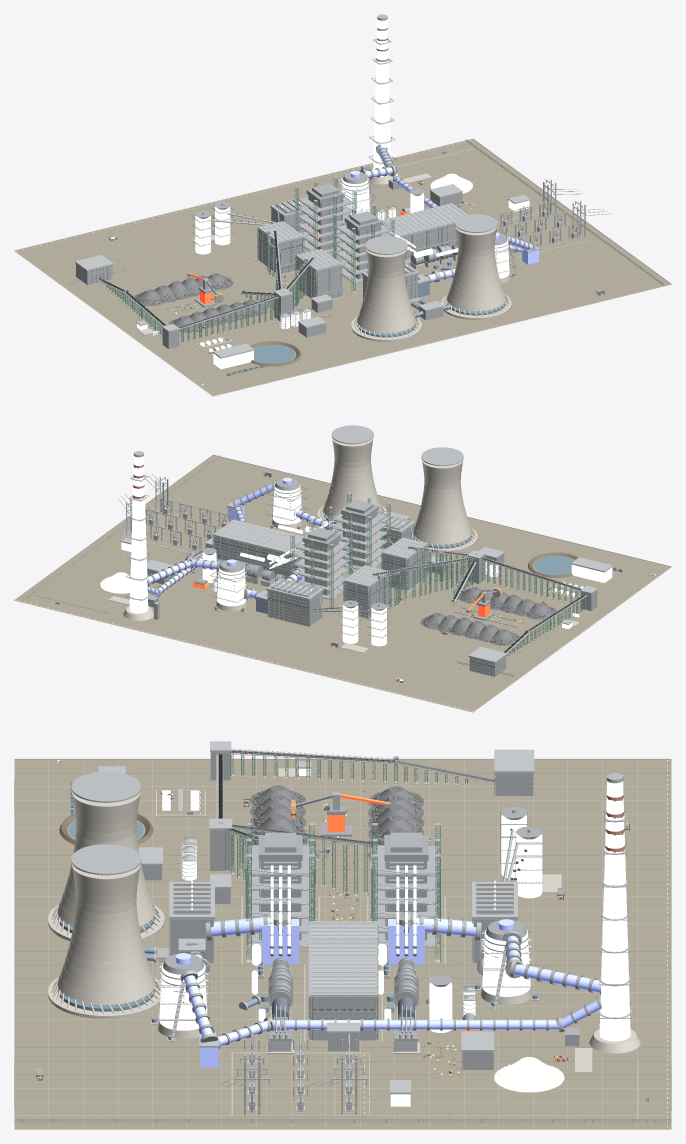
File: coalpower.glb
3 views of the same model, one above another, from view 1: azimuth 30°, elevation 25°; view 2: azimuth 150°, elevation 25°; view 3: azimuth 270°, elevation 25° (orthographic). The views are drawn at different scales.
Parts seen in each view (by area): view 1: structure/mat_8b8166_54, structure/concrete, galv/galv, structure/clad, structure/seam, structure/roof, structure/green, structure/white, structure/silo, structure/mat_4f5054_4, structure/steelD, structure/steel2 (+3 smaller); view 2: structure/mat_8b8166_54, galv/galv, structure/concrete, structure/clad, structure/seam, structure/green, structure/roof, structure/silo, structure/white, structure/mat_4f5054_4, structure/steelD, structure/steel2 (+7 smaller); view 3: structure/mat_8b8166_54, galv/galv, structure/concrete, structure/seam, structure/roof, structure/white, structure/duct, structure/clad, structure/steelD, structure/silo, structure/green, structure/steel2 (+12 smaller).
Boxes of the visible parts, left/top/right/bottom form: structure/mat_8b8166_54: left=14, top=139, right=671, bottom=396; structure/concrete: left=14, top=138, right=671, bottom=396; galv/galv: left=87, top=14, right=585, bottom=333; structure/clad: left=76, top=179, right=462, bottom=348; structure/seam: left=26, top=144, right=660, bottom=391; structure/roof: left=75, top=184, right=539, bottom=358; structure/green: left=106, top=178, right=457, bottom=342; structure/white: left=16, top=19, right=538, bottom=369; structure/silo: left=195, top=177, right=509, bottom=278; structure/mat_4f5054_4: left=134, top=273, right=267, bottom=332; structure/steelD: left=67, top=148, right=610, bottom=328; structure/steel2: left=308, top=171, right=507, bottom=292; structure/mat_8b8166_54: left=14, top=455, right=671, bottom=712; galv/galv: left=125, top=425, right=587, bottom=676; structure/concrete: left=14, top=437, right=671, bottom=712; structure/clad: left=147, top=499, right=597, bottom=676; structure/seam: left=25, top=460, right=659, bottom=707; structure/green: left=212, top=494, right=586, bottom=656; structure/roof: left=120, top=502, right=612, bottom=663; structure/silo: left=202, top=484, right=406, bottom=646; structure/white: left=19, top=456, right=612, bottom=711; structure/mat_4f5054_4: left=420, top=587, right=555, bottom=645; structure/steelD: left=118, top=474, right=585, bottom=676; structure/steel2: left=219, top=478, right=377, bottom=604; structure/mat_8b8166_54: left=14, top=759, right=671, bottom=1129; galv/galv: left=71, top=748, right=631, bottom=1115; structure/concrete: left=14, top=758, right=671, bottom=1129; structure/seam: left=16, top=760, right=669, bottom=1128; structure/roof: left=98, top=741, right=534, bottom=1094; structure/white: left=159, top=760, right=667, bottom=1127; structure/duct: left=175, top=916, right=600, bottom=1067; structure/clad: left=141, top=752, right=579, bottom=1069; structure/steelD: left=173, top=751, right=596, bottom=1086; structure/silo: left=159, top=815, right=542, bottom=1032; structure/green: left=225, top=754, right=468, bottom=1039; structure/steel2: left=163, top=860, right=526, bottom=1005.
Bounding box in the file's own units: 614 × 206 × 460.
55 materials, 9 textured.
